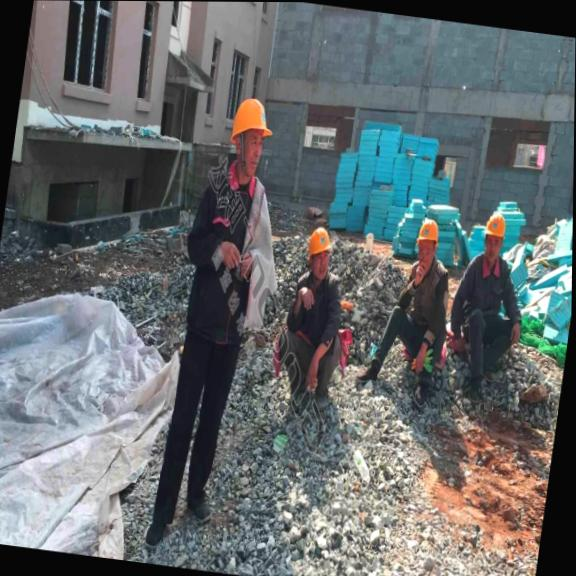no_safety_vest: (171, 177, 274, 292), (284, 266, 357, 340), (398, 255, 453, 331), (451, 253, 516, 314)
